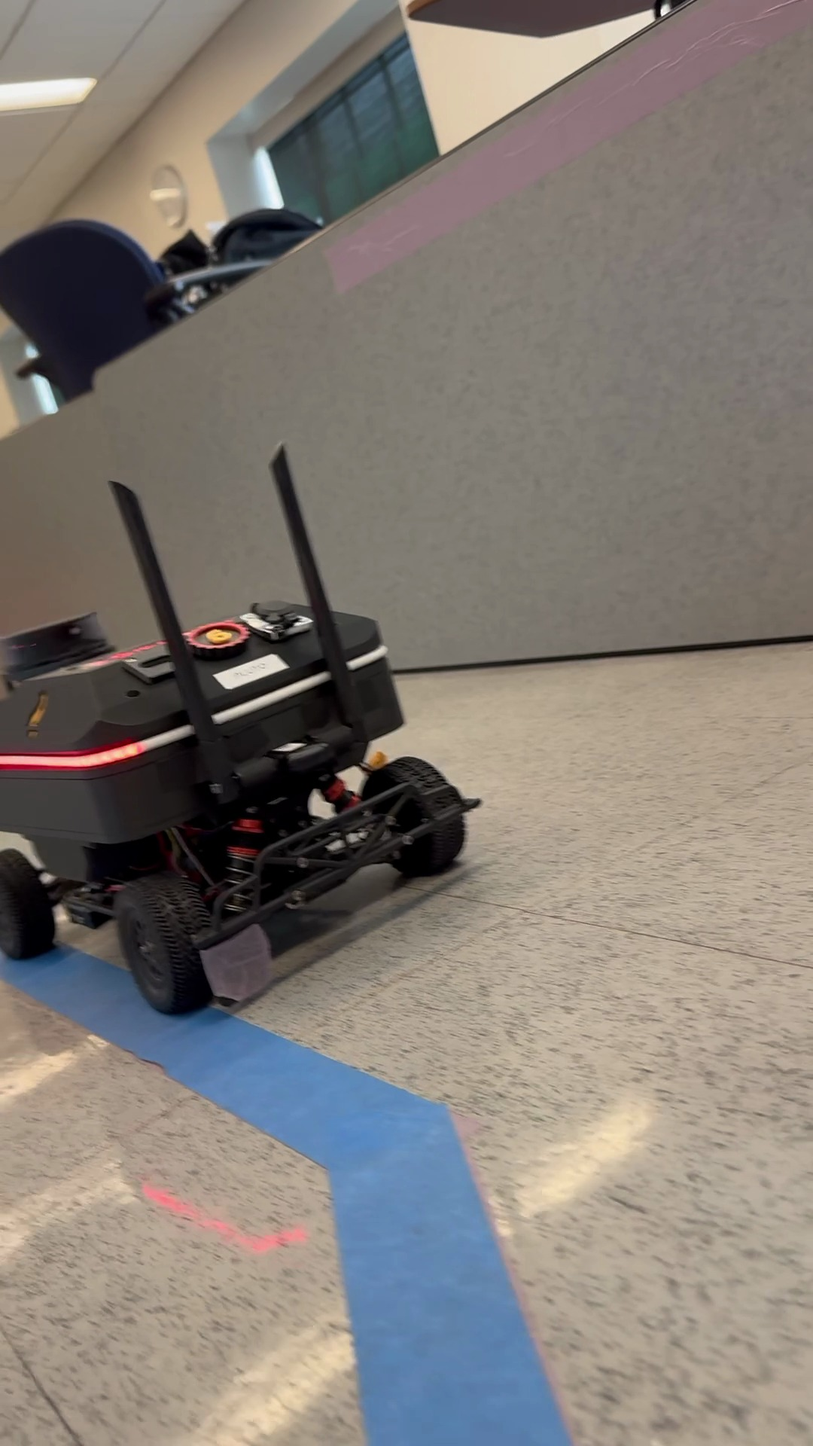racecar: (0, 449, 482, 1019)
